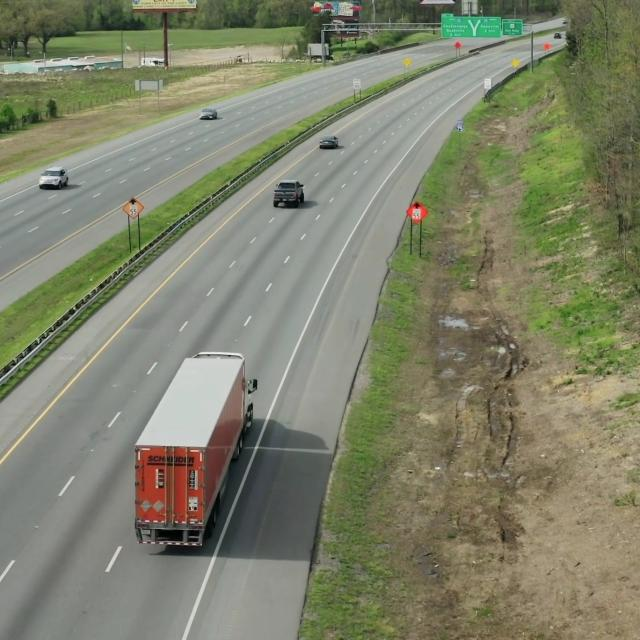Car: (131, 347, 255, 553), (37, 163, 71, 196), (272, 178, 308, 208)
